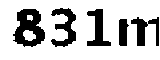1: (83, 7, 115, 50)
3: (48, 7, 81, 51)
8: (11, 6, 46, 50)
m: (116, 13, 160, 50)
